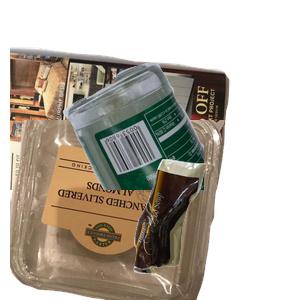glass: (60, 60, 300, 240)
paper: (10, 44, 232, 224)
plastic: (10, 120, 227, 300)
trash: (131, 157, 300, 300)
